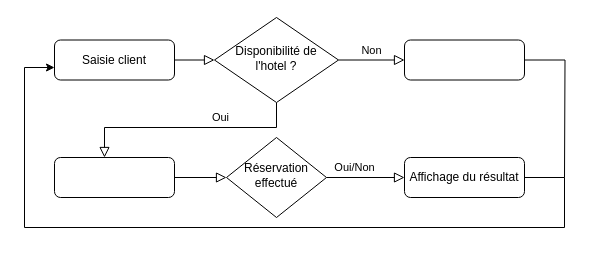
The diagram is 590 pixels wide and 253 high, and some of its shapes have lost their labels. Here are the shapes that lost their labels. From the top down, the centre of each, then its label:
At point (464, 59): "Affichage négatif".
At point (114, 177): "Saisie du client".
